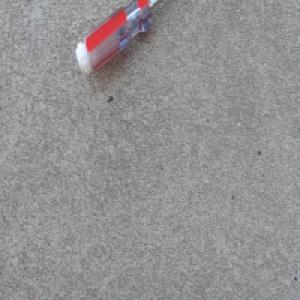Screwdriver: (74, 0, 169, 78)
